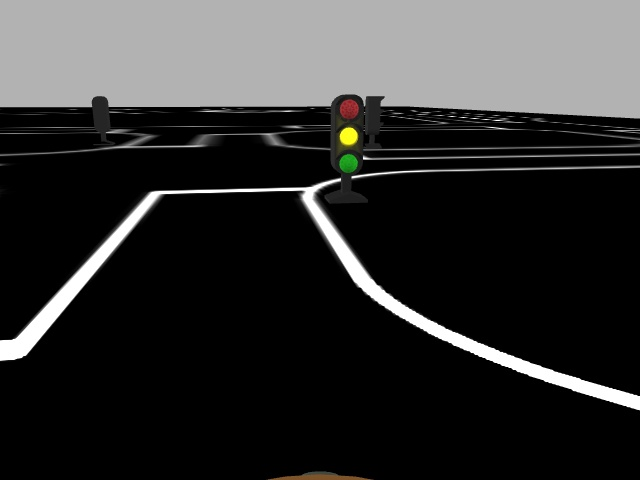yellow_light: (330, 94, 364, 175)
